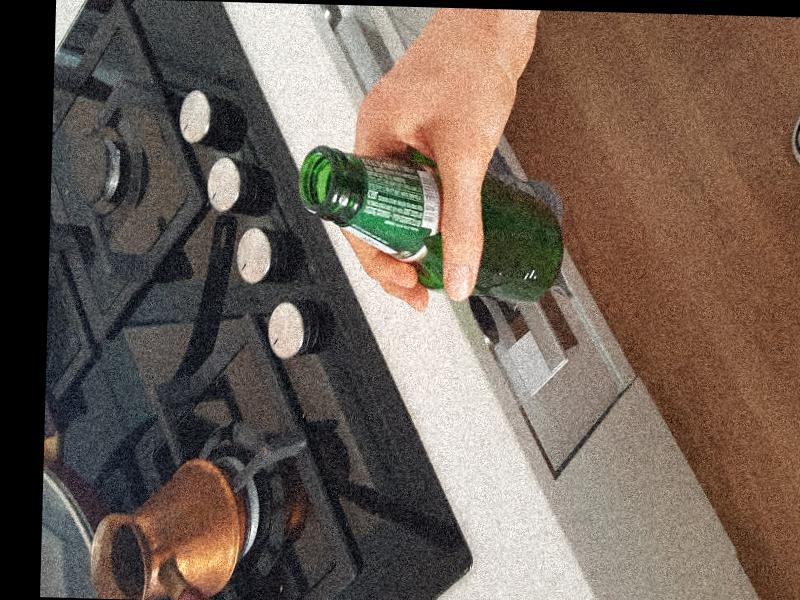Beer: (295, 146, 566, 301)
